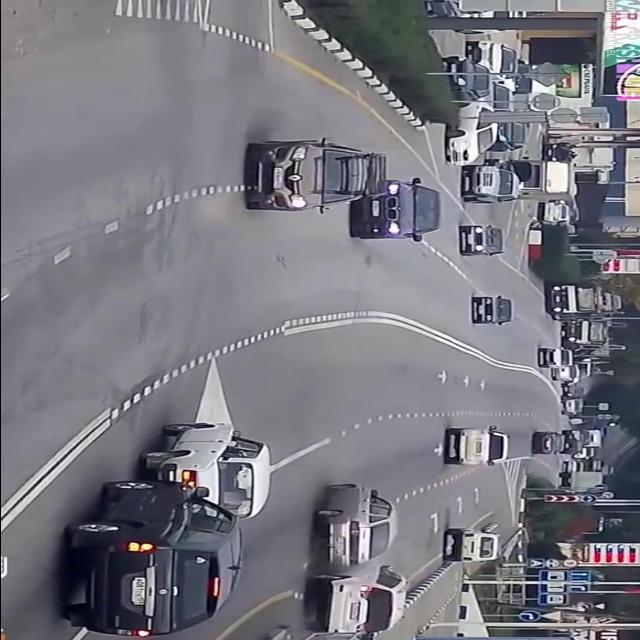accident: (297, 479, 418, 640)
non_accident: (50, 414, 290, 640), (229, 133, 447, 251), (438, 37, 538, 167), (455, 155, 579, 209)
